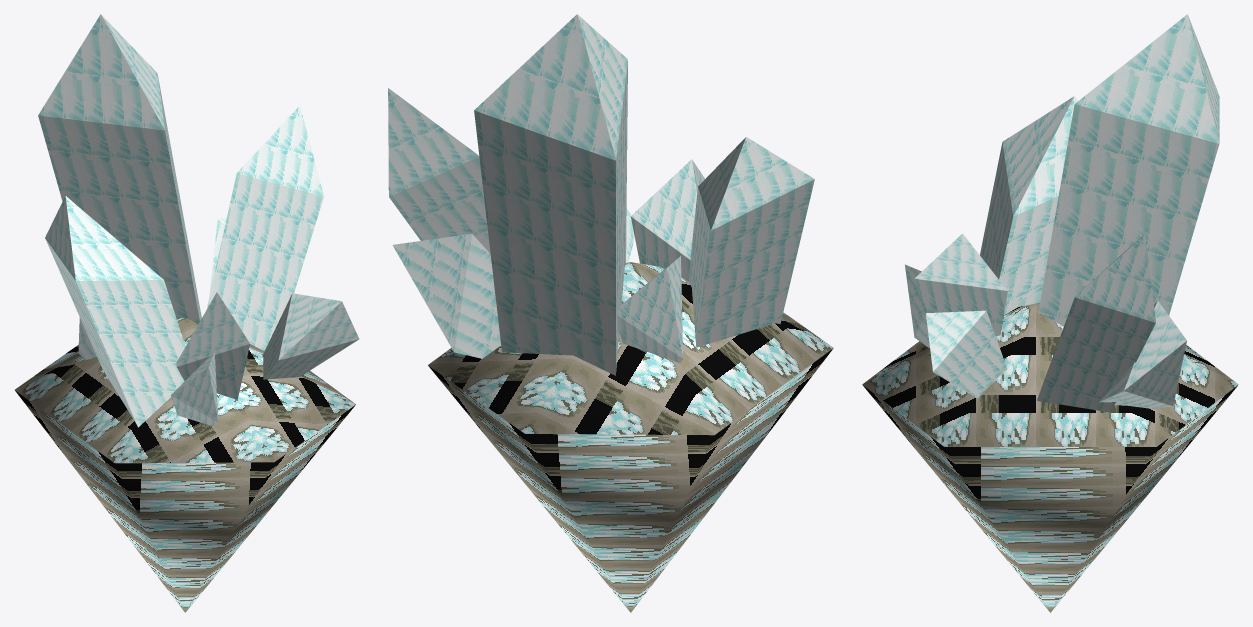
The picture shows the model from 3 angles, left to right: view 1: azimuth 30°, elevation 25°; view 2: azimuth 150°, elevation 25°; view 3: azimuth 270°, elevation 25°; orthographic projection. The views are drawn at different scales.
Parts seen in each view (by area): view 1: 3816kg_sh1_39; view 2: 3816kg_sh1_39; view 3: 3816kg_sh1_39.
Part boxes in pixels (x1=…): 3816kg_sh1_39: x1=15, y1=14, x2=359, y2=612; 3816kg_sh1_39: x1=388, y1=14, x2=833, y2=612; 3816kg_sh1_39: x1=862, y1=14, x2=1238, y2=612.
Size of the model in its own units: 0.8662 by 1.58 by 0.9155.
2 materials, 2 textured.
